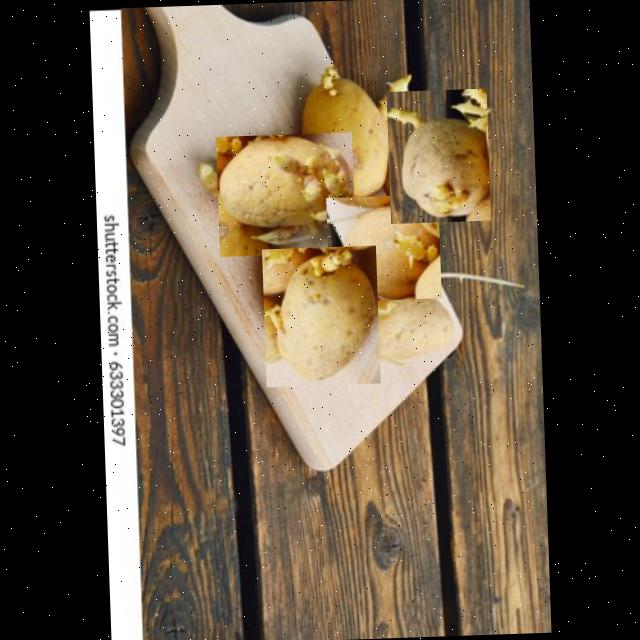Sprouted potato: (292, 60, 419, 207), (216, 130, 356, 256), (361, 258, 524, 362), (262, 244, 381, 386), (386, 88, 491, 222), (326, 192, 442, 300)
